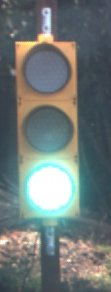Green: (4, 22, 95, 240)
